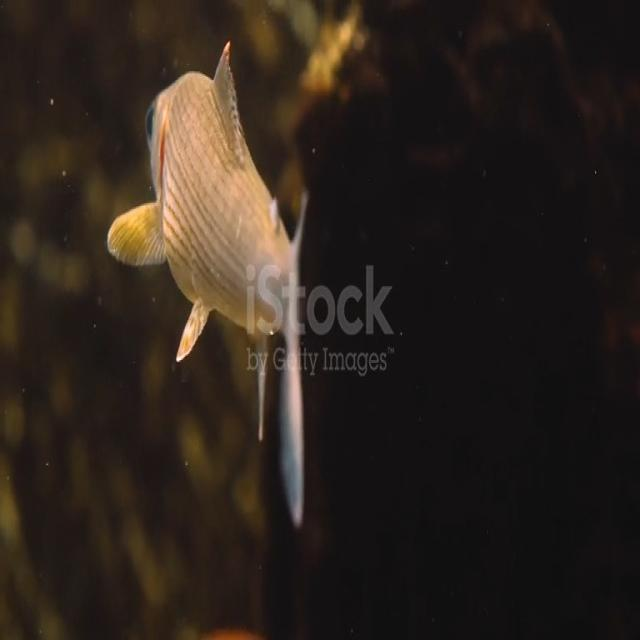fish: (105, 32, 313, 530)
